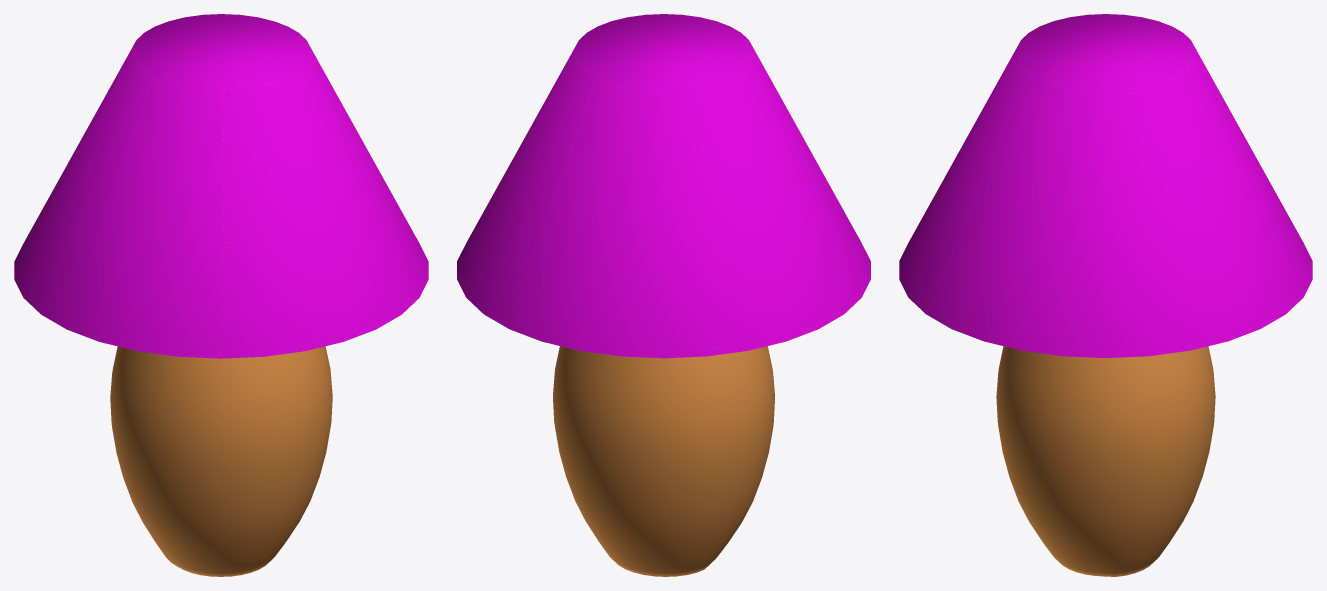
File: lámpara.obj
3 views of the same model, side by side, from view 1: azimuth 30°, elevation 25°; view 2: azimuth 150°, elevation 25°; view 3: azimuth 270°, elevation 25° (orthographic).
Visible parts, largest first — view 1: sombrero_Cylinder.004, cuerpo_Cylinder.001; view 2: sombrero_Cylinder.004, cuerpo_Cylinder.001; view 3: sombrero_Cylinder.004, cuerpo_Cylinder.001.
Boxes of the visible parts, box(x1,y1,x2,y2) form: sombrero_Cylinder.004: box(14, 14, 428, 358); cuerpo_Cylinder.001: box(110, 346, 332, 576); sombrero_Cylinder.004: box(457, 14, 870, 358); cuerpo_Cylinder.001: box(553, 346, 774, 576); sombrero_Cylinder.004: box(899, 14, 1312, 358); cuerpo_Cylinder.001: box(996, 346, 1215, 576).
Size of the model in its own units: 2.01 by 2.68 by 1.99.
Materials: 1 (1 with a texture image).
